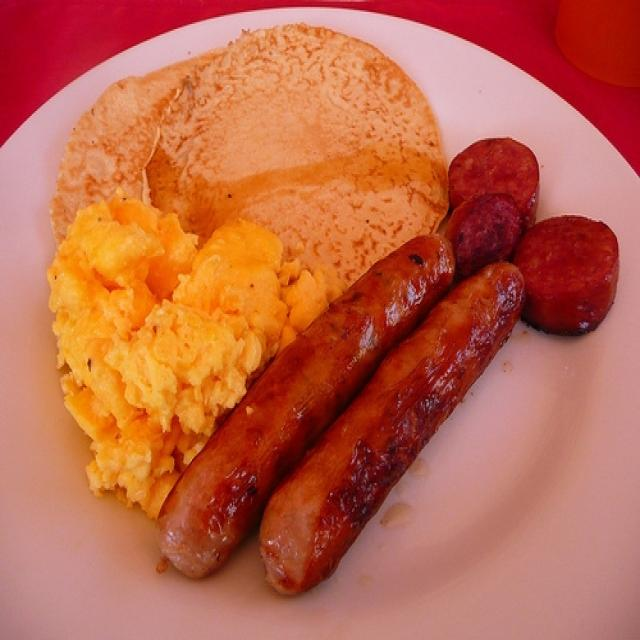鸡蛋料理: (41, 34, 608, 591)
